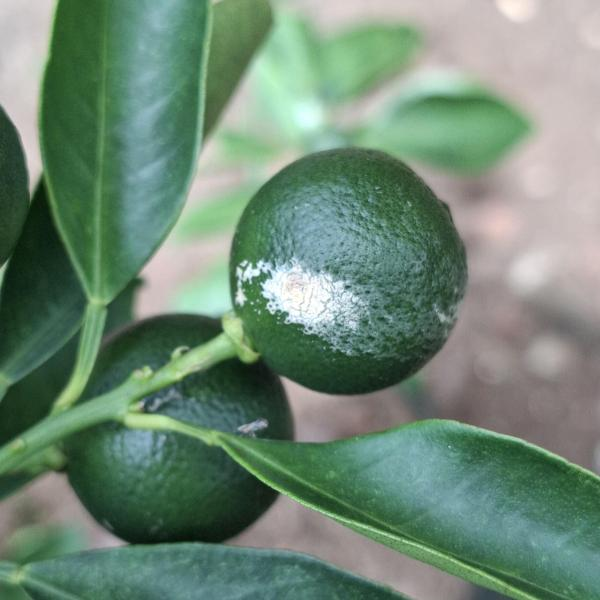Scab: (214, 144, 479, 409)
